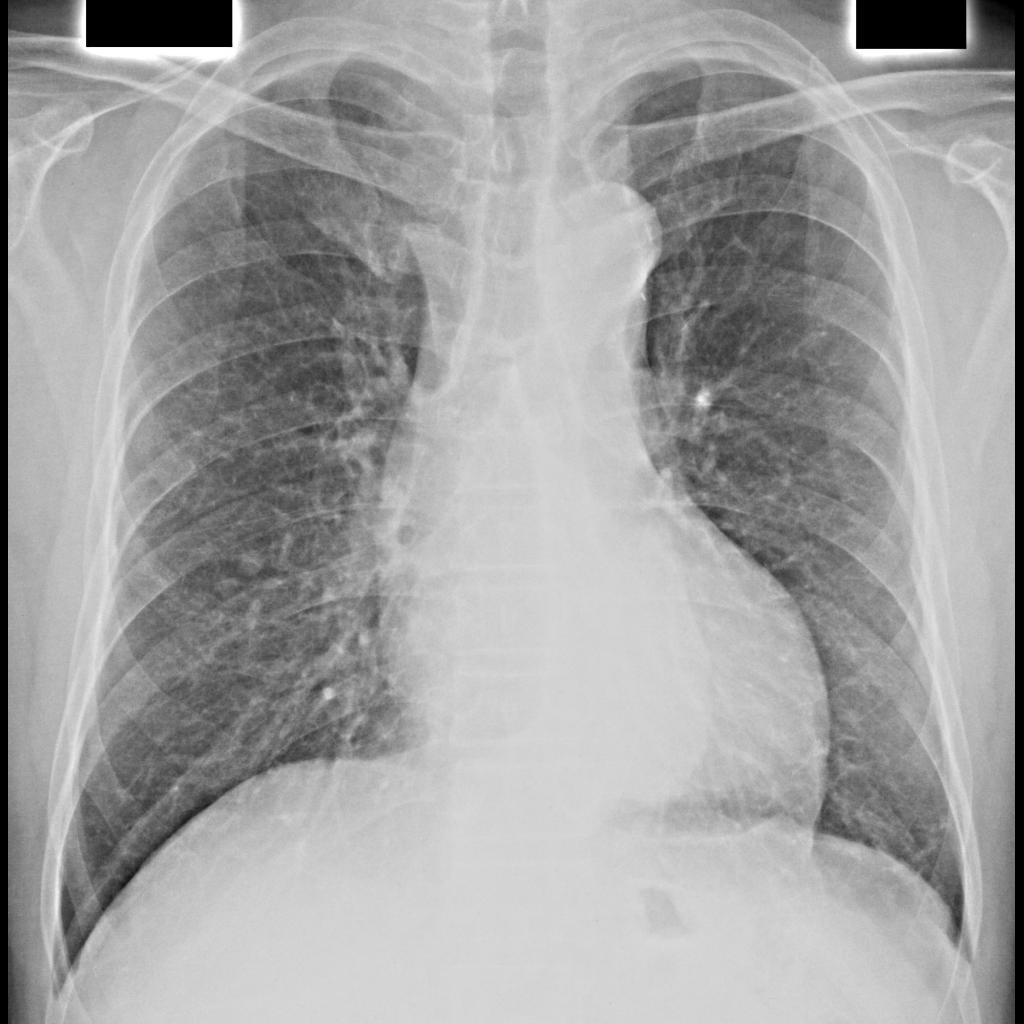Nodule: (232, 549, 266, 583)
